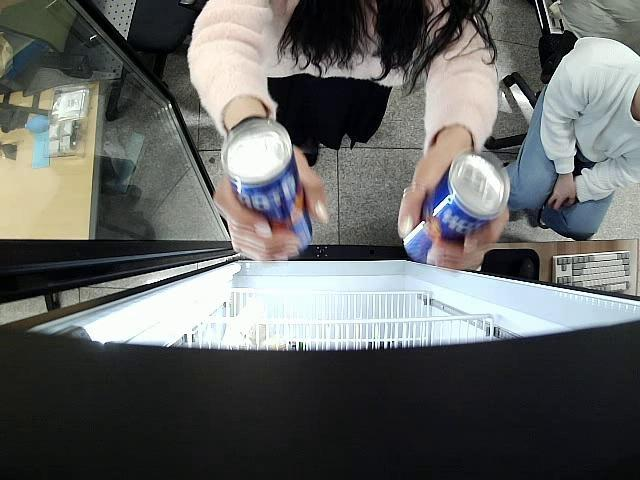16_hot6: (219, 121, 314, 254), (402, 153, 512, 262)
